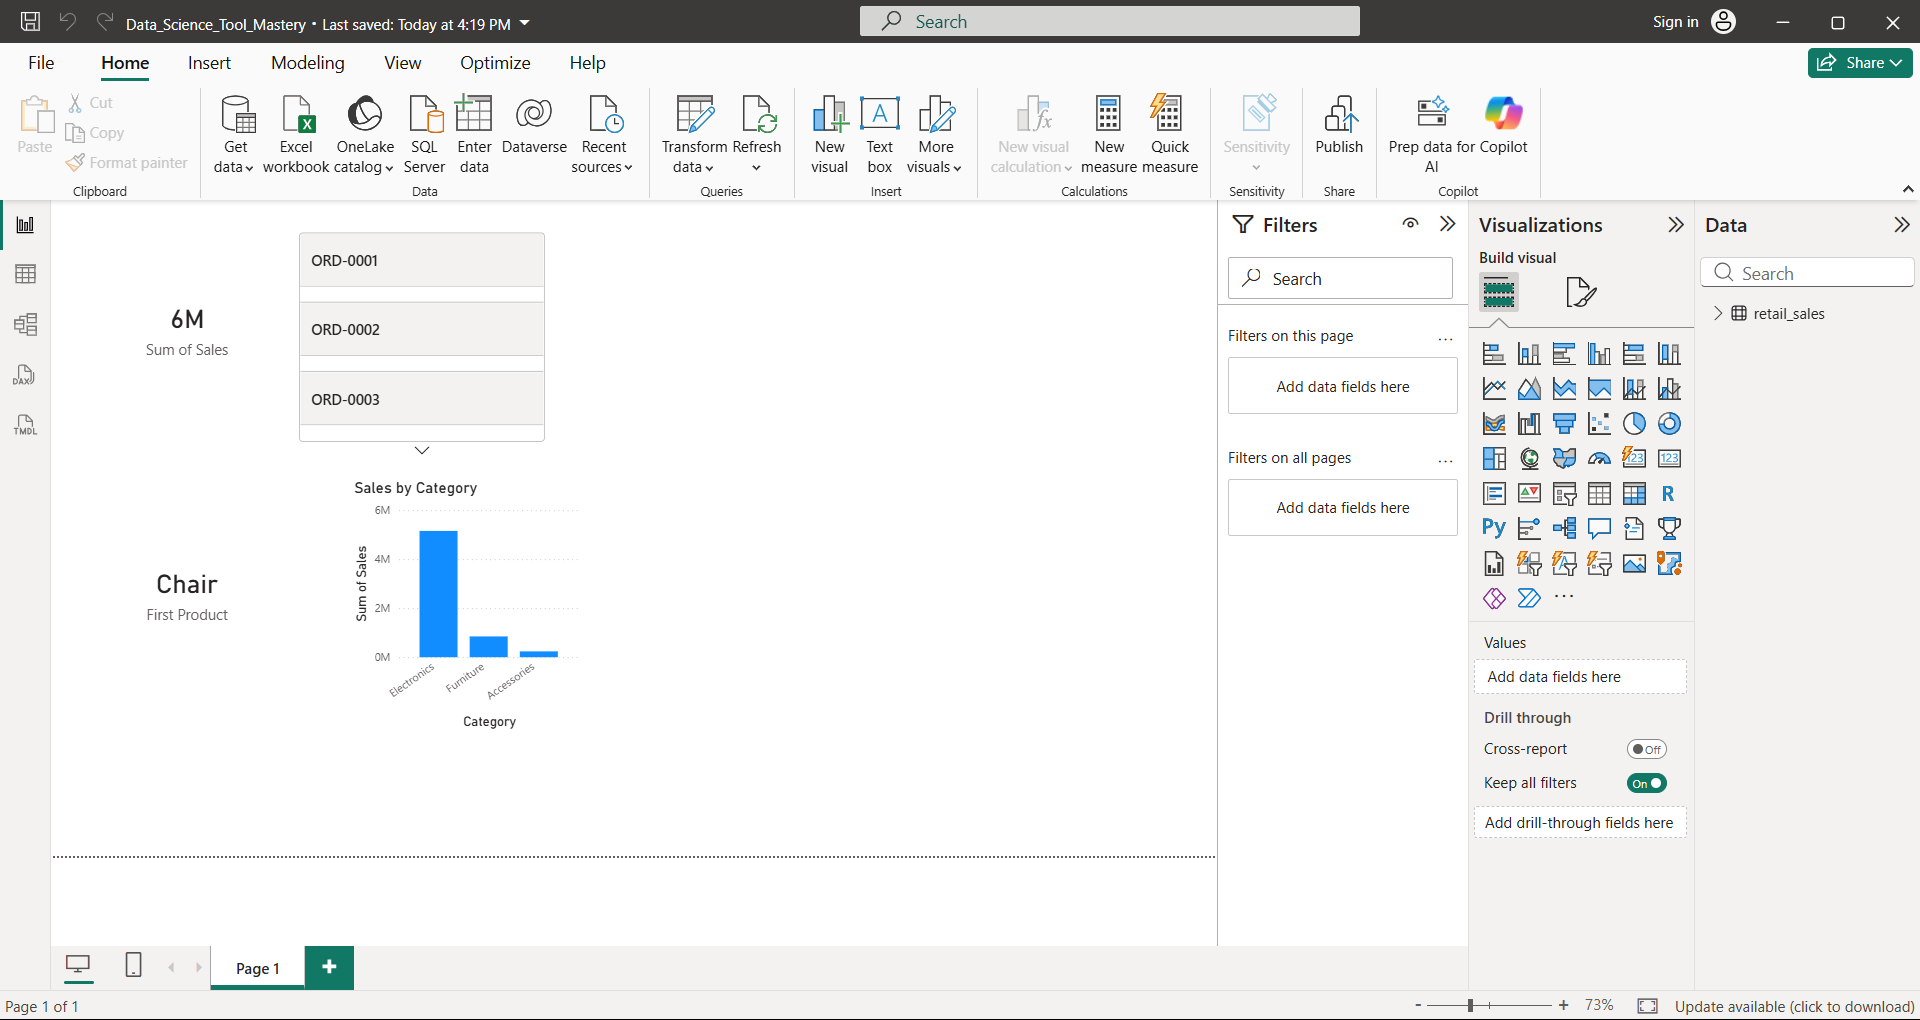

This screenshot's page, from the dashboard's own definition file:
{"tool":"powerbi","page":{"name":"Page 1","canvas":[1280,720],"ordinal":0},"visuals":[{"type":"card","fields":{"Values":["Sum(retail_sales.Sales)"]},"box":[10,0,280,280],"z":0},{"type":"cardVisual","fields":{"Rows":["retail_sales.OrderID"]},"box":[267.6,11,279.9,279.9],"z":1},{"type":"card","fields":{"Values":["Min(retail_sales.Product)"]},"box":[10,291,280,280],"z":2},{"type":"columnChart","title":"Sales by Category","fields":{"Category":["retail_sales.Category"],"Y":["Sum(retail_sales.Sales)"]},"box":[328,306,258,279.9],"z":3}]}

Visuals, with their boxes on the page's 1280x720 design canvas (x1, y1, x2, y2). These are canvas units, not pixel positions in the 1920x1020 screenshot, which may show the page scaled, cropped or inside an application window:
card - Sum(retail_sales.Sales): x1=10 y1=0 x2=290 y2=280
cardVisual - retail_sales.OrderID: x1=268 y1=11 x2=548 y2=291
card - Min(retail_sales.Product): x1=10 y1=291 x2=290 y2=571
"Sales by Category" columnChart: x1=328 y1=306 x2=586 y2=586
